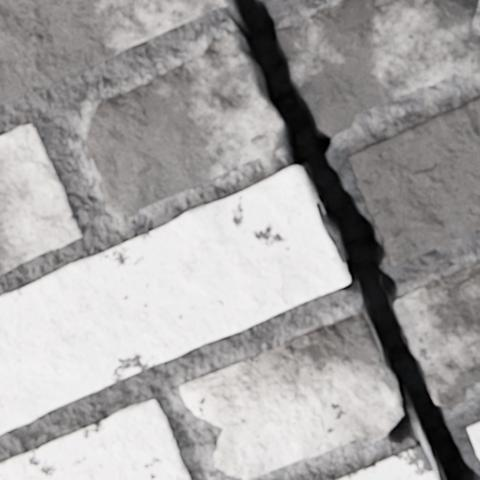brick: (0, 165, 349, 433), (0, 0, 233, 105), (347, 96, 479, 267), (0, 398, 192, 479), (0, 123, 83, 274), (335, 428, 438, 479), (466, 420, 479, 458)
broken_brick: (85, 31, 286, 218), (180, 311, 402, 479), (277, 0, 479, 137), (393, 263, 479, 406)
crack: (229, 0, 479, 479)
